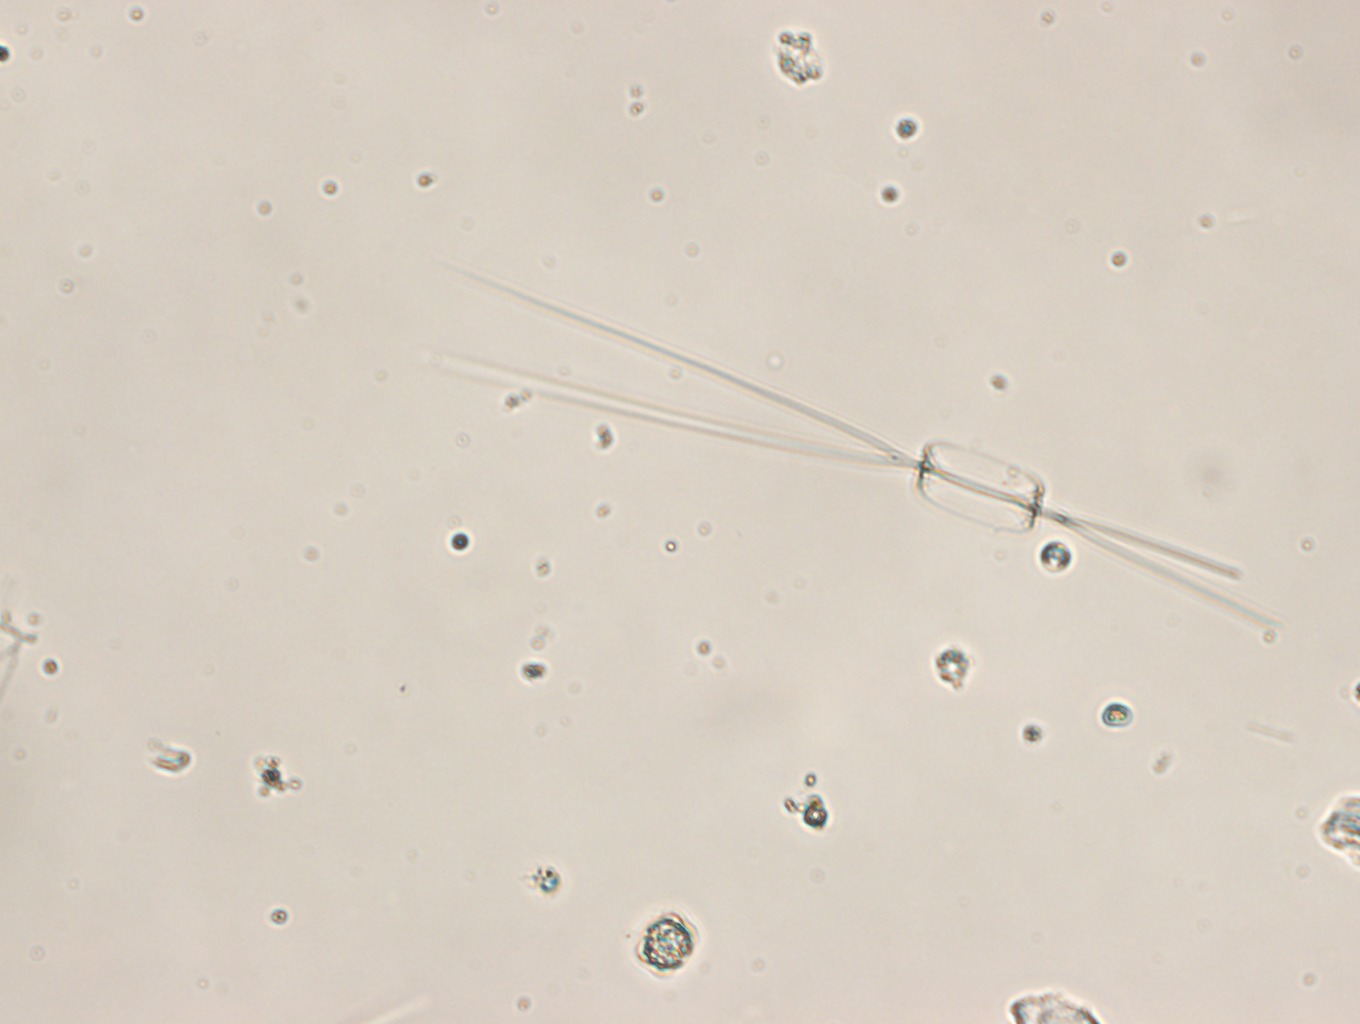chaetoceros: (393, 269, 1293, 631)
